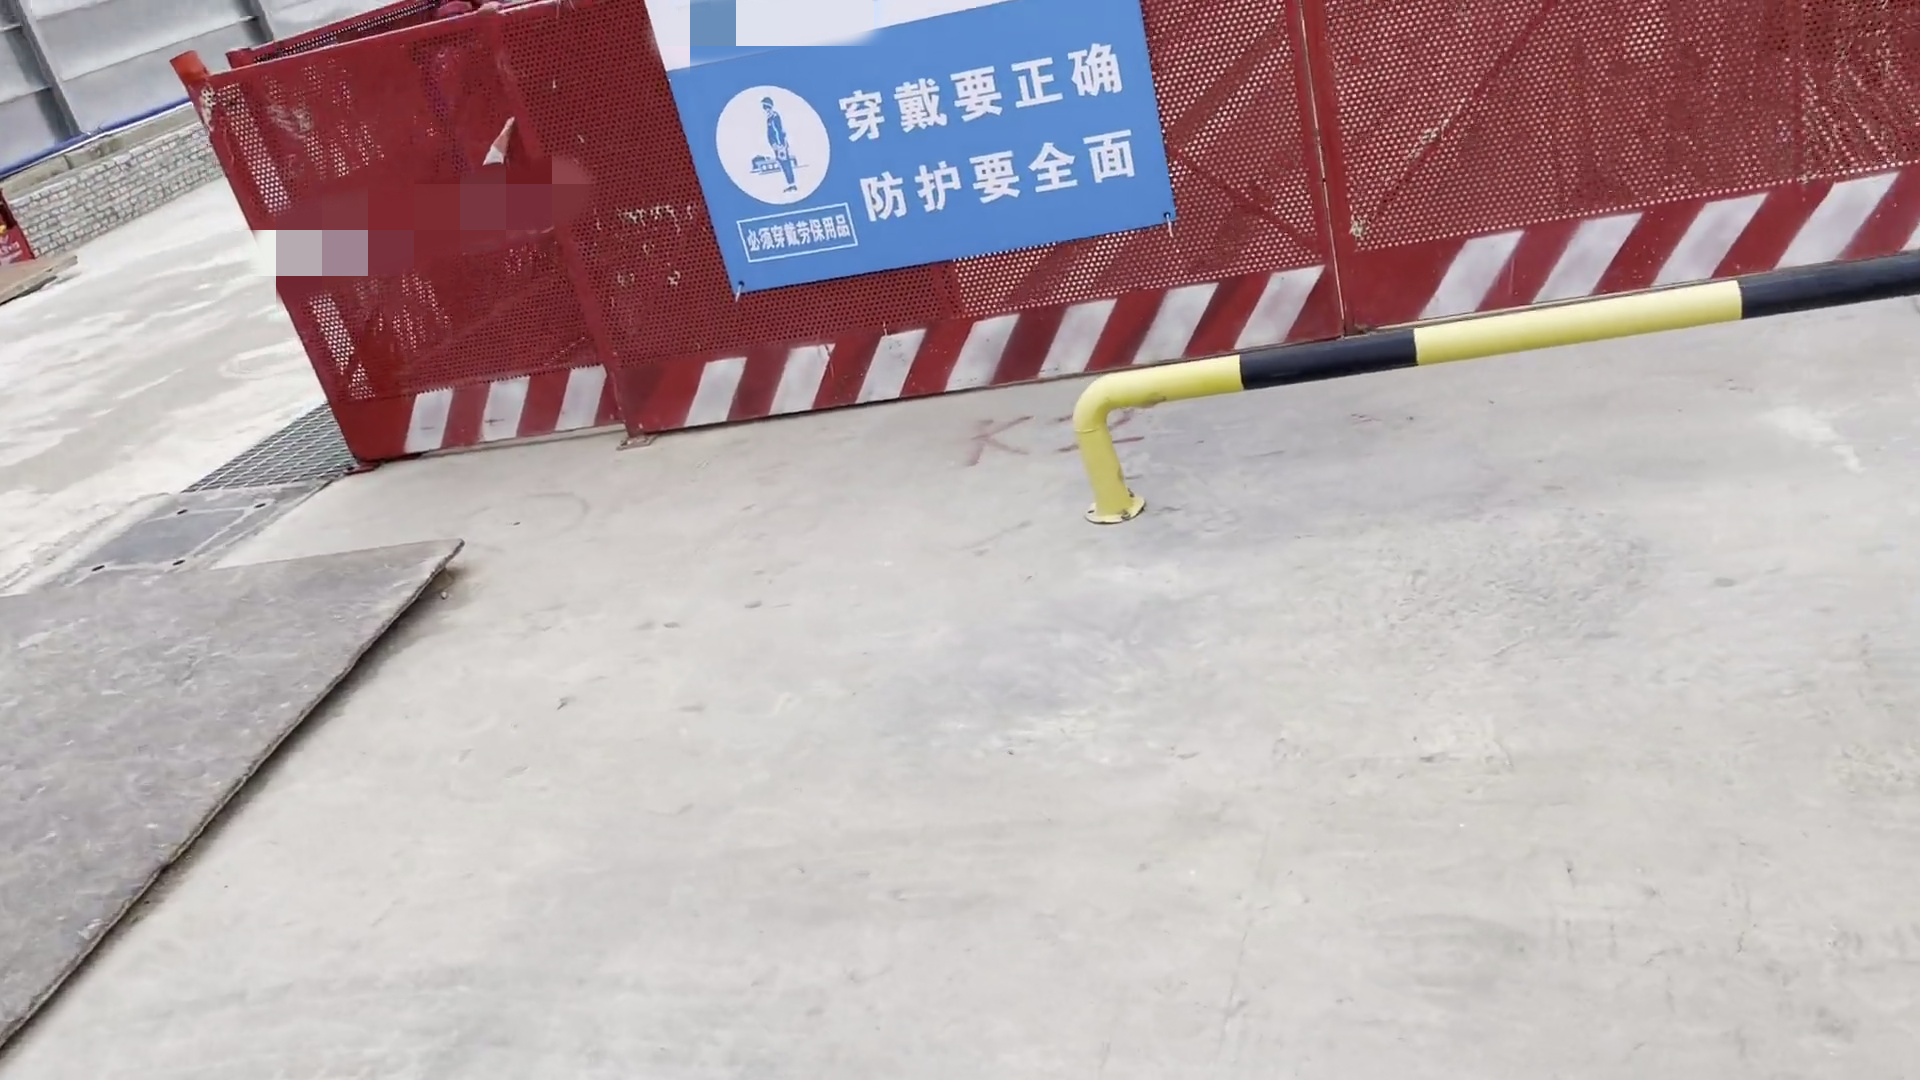brick: (7, 116, 233, 264)
fence: (167, 1, 1920, 473)
slogan: (632, 3, 1204, 309)
